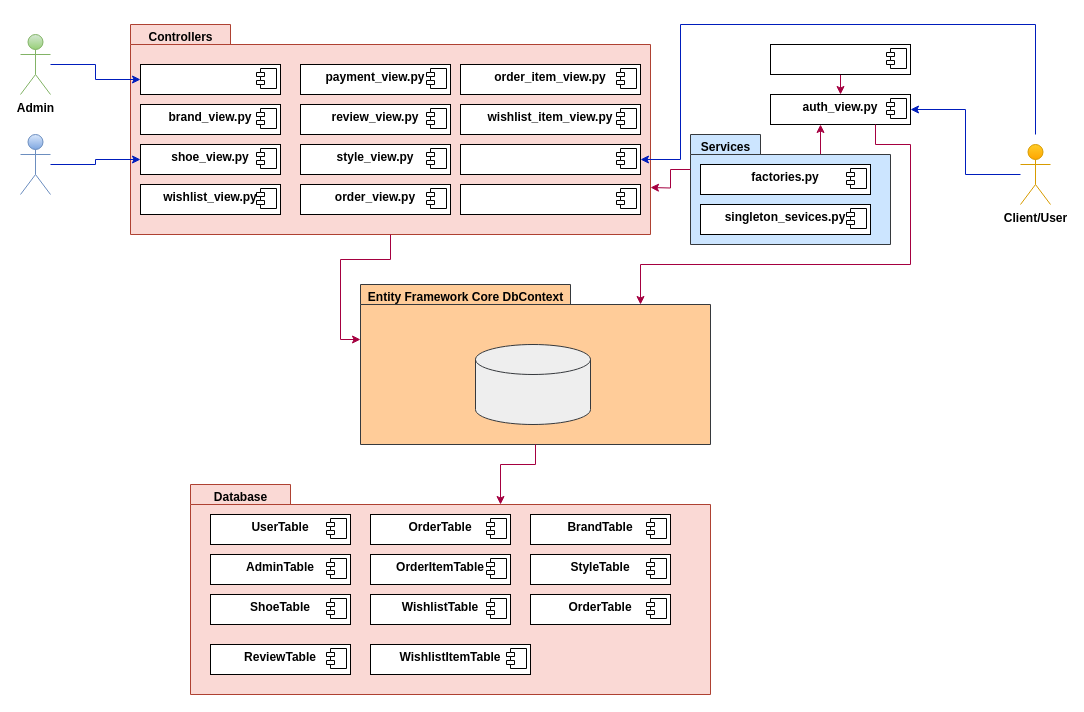
The diagram is 1084 pixels wide and 712 high, and some of its shapes have lost their labels. The box of each missing label's shape, as (x1, y1, x2, y2) in pixels:
admin.py: (140, 64, 280, 94)
db_context: (474, 344, 590, 424)
deployment: (770, 44, 910, 74)
Shoe: (20, 134, 50, 194)
user_view.py: (460, 144, 640, 174)
view.py: (460, 184, 640, 214)
